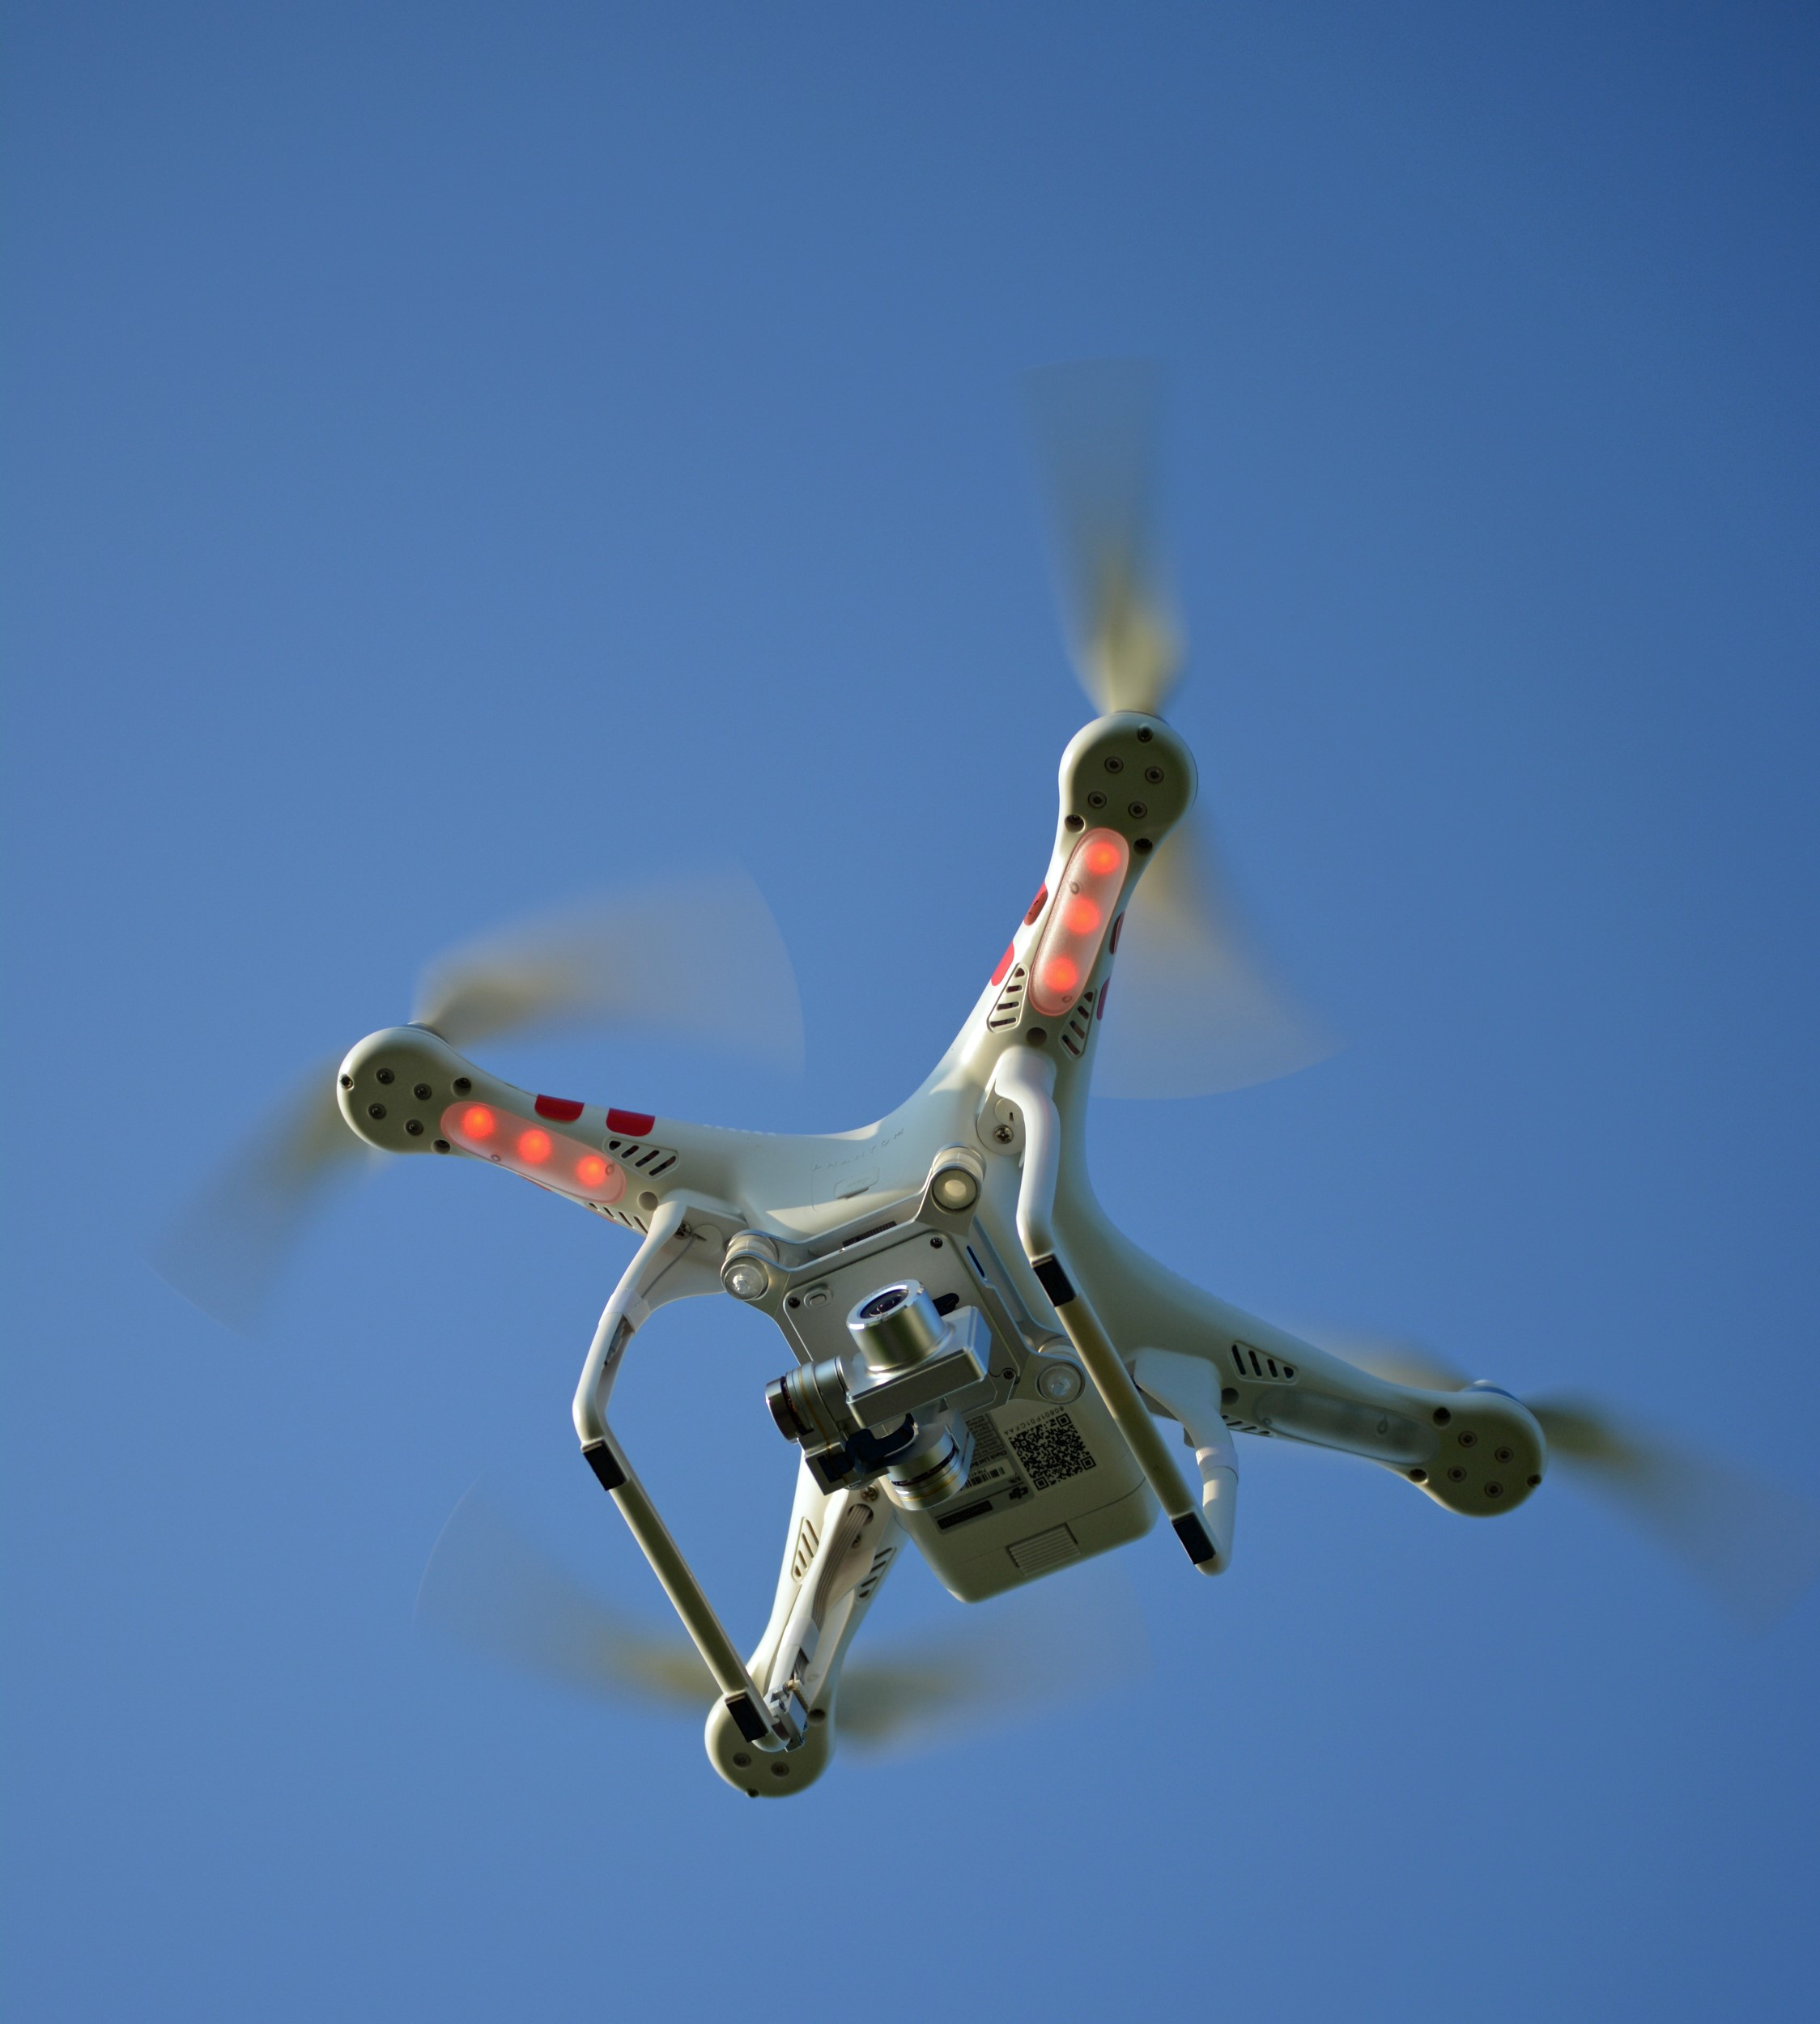drone: (176, 408, 1794, 1806)
